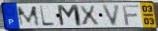F: (122, 4, 141, 26)
L: (39, 5, 57, 27)
M: (56, 4, 84, 28), (16, 5, 42, 28)
V: (101, 4, 122, 27)
X: (77, 5, 101, 26)
